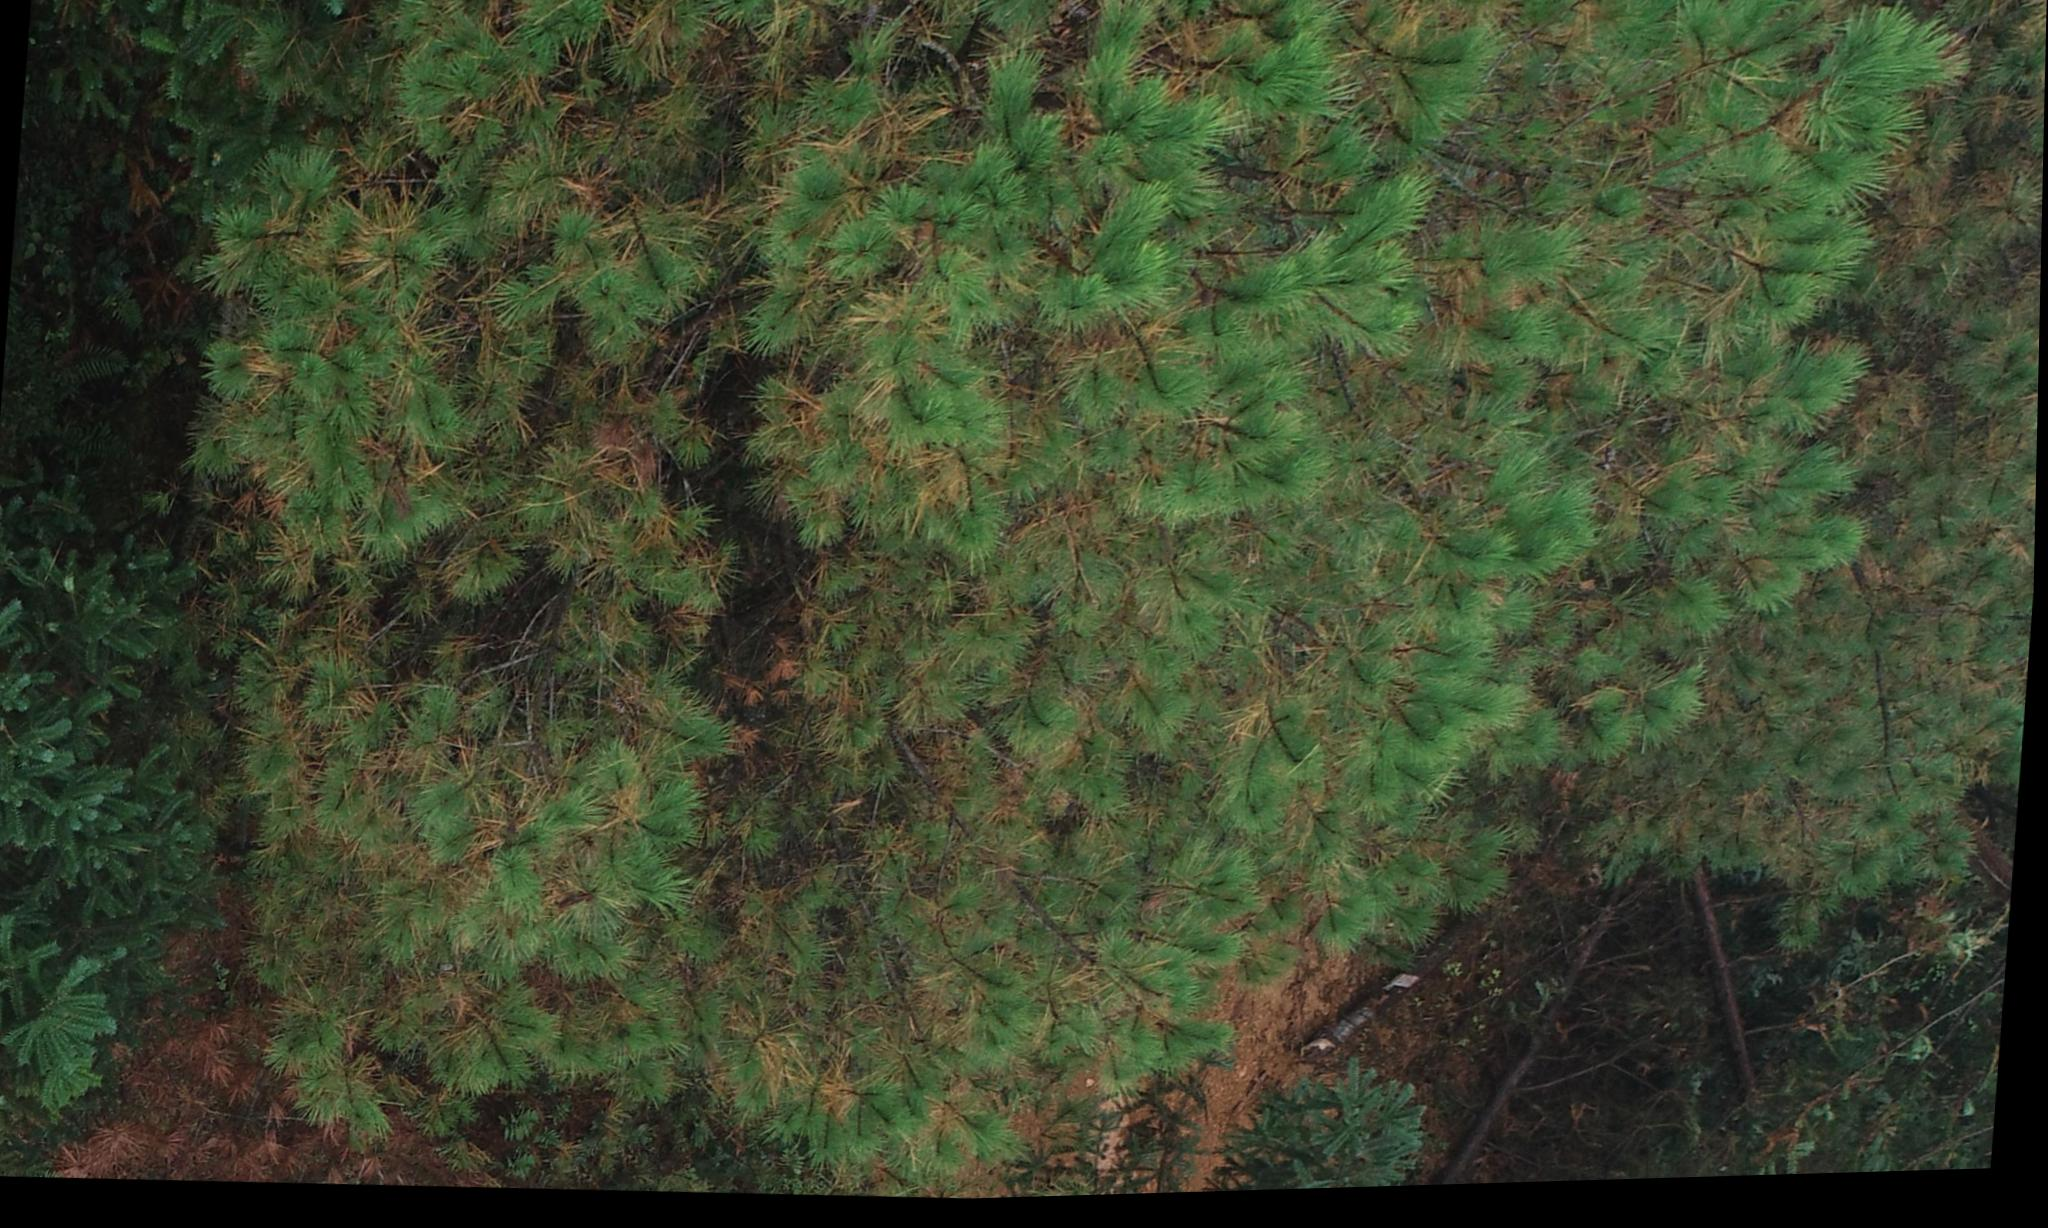light: (149, 0, 1968, 1224)
